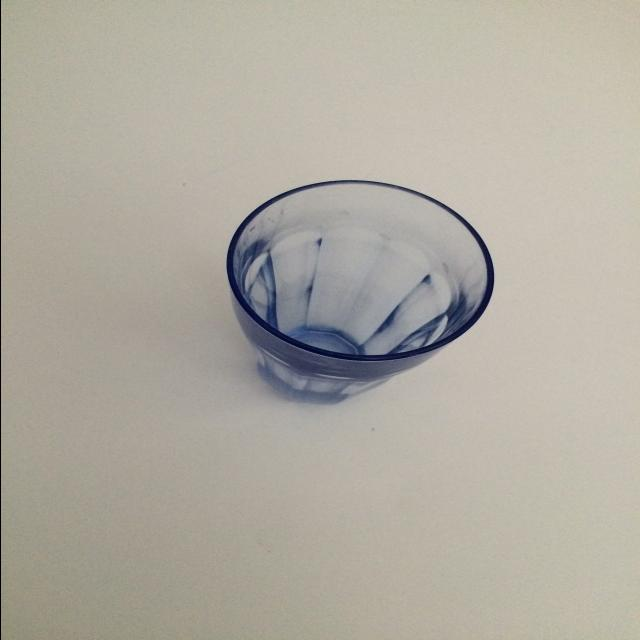glass: (220, 176, 496, 398)
